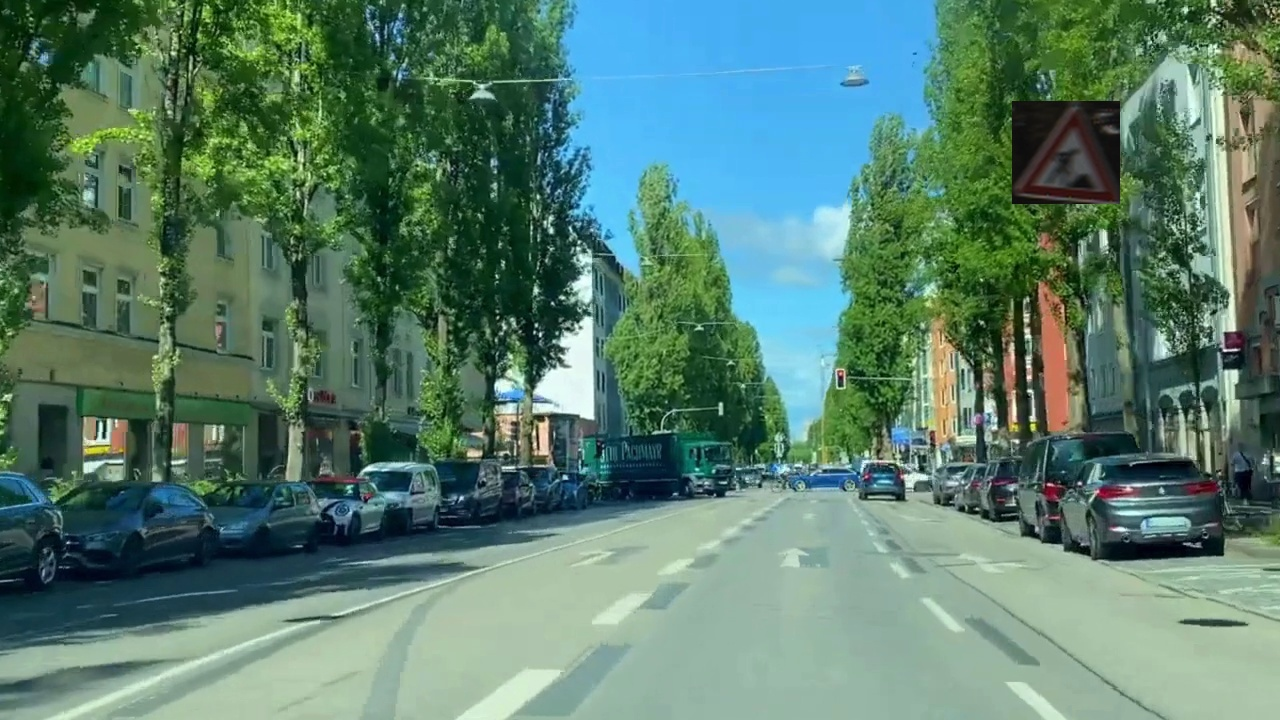Road work: (1012, 101, 1120, 204)
